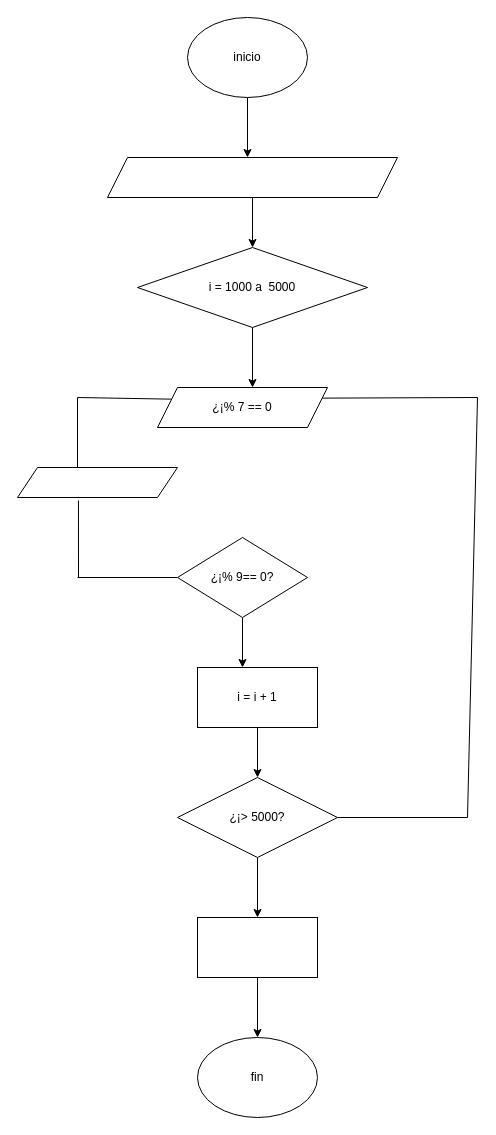
The diagram is 496 pixels wide and 1135 high, and some of its shapes have lost their labels. Each missing label, with the centre of its shape:
"cant7 = 0 cant9 = 0" goes at (x=252, y=177).
"cont7 = cont7+1" goes at (x=97, y=482).
"mostrar cont7,cont9" goes at (x=257, y=947).
